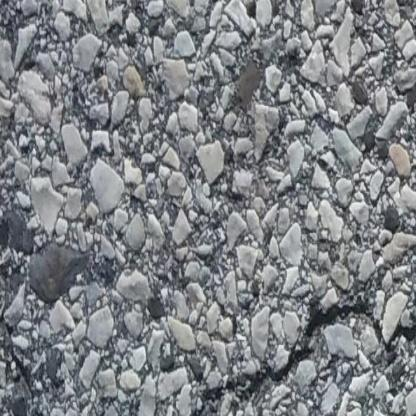Cracks: (173, 299, 416, 416)
